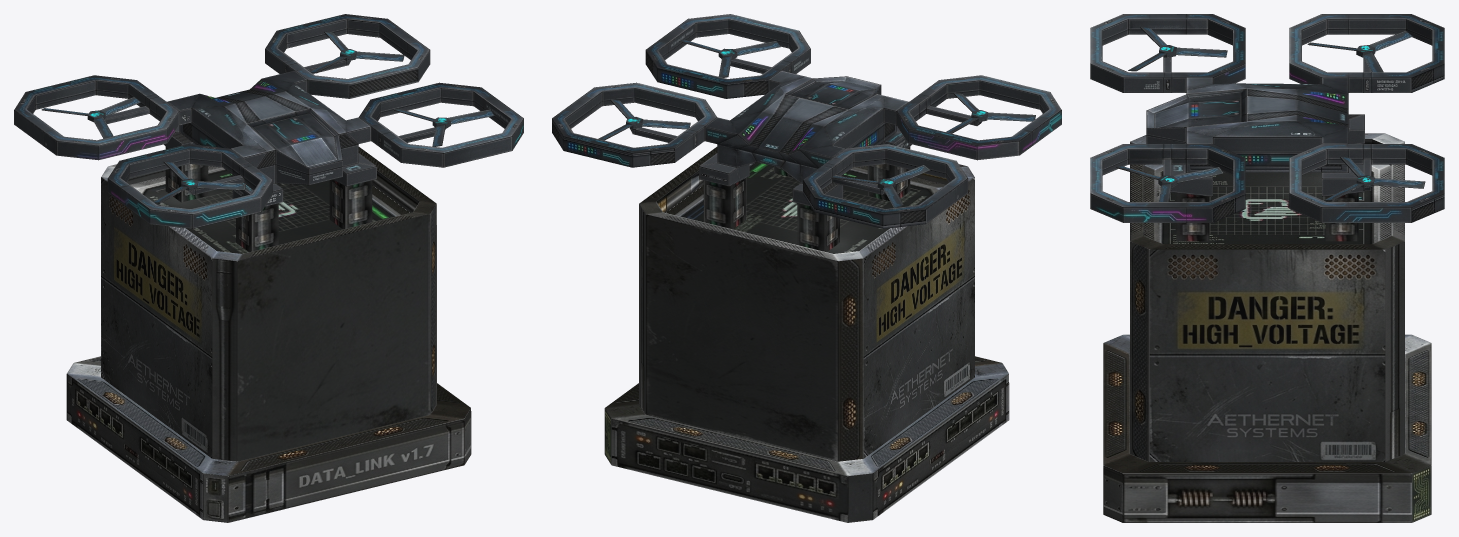
Rendered from dronechargingstation.glb.
3 views of the same model, side by side, from view 1: azimuth 30°, elevation 25°; view 2: azimuth 150°, elevation 25°; view 3: azimuth 270°, elevation 25° (orthographic). The views are drawn at different scales.
Visible parts, largest first — view 1: DroneChargingStationBase.001, Drone, DroneRotor.004, DroneRotor.002, DroneRotor.003, DroneRotor.001; view 2: DroneChargingStationBase.001, Drone, DroneRotor.003, DroneRotor.001, DroneRotor.002, DroneRotor.004; view 3: DroneChargingStationBase.001, Drone, DroneRotor.004, DroneRotor.002, DroneRotor.001, DroneRotor.003.
Boxes of the visible parts, <box> form: DroneChargingStationBase.001: <box>66,147,471,522</box>; Drone: <box>14,14,523,228</box>; DroneRotor.004: <box>154,161,245,203</box>; DroneRotor.002: <box>310,31,404,73</box>; DroneRotor.003: <box>393,108,494,146</box>; DroneRotor.001: <box>41,97,140,138</box>; DroneChargingStationBase.001: <box>604,147,1009,522</box>; Drone: <box>552,14,1061,228</box>; DroneRotor.003: <box>679,40,780,77</box>; DroneRotor.001: <box>831,165,930,207</box>; DroneRotor.002: <box>598,99,690,140</box>; DroneRotor.004: <box>946,93,1035,133</box>; DroneChargingStationBase.001: <box>1103,133,1431,522</box>; Drone: <box>1090,14,1444,222</box>; DroneRotor.004: <box>1128,27,1227,71</box>; DroneRotor.002: <box>1324,157,1425,201</box>; DroneRotor.001: <box>1307,30,1412,72</box>; DroneRotor.003: <box>1116,166,1223,201</box>.
Bounding box in the file's own units: 2.39 × 2.01 × 1.85.
2 materials, 2 textured.
